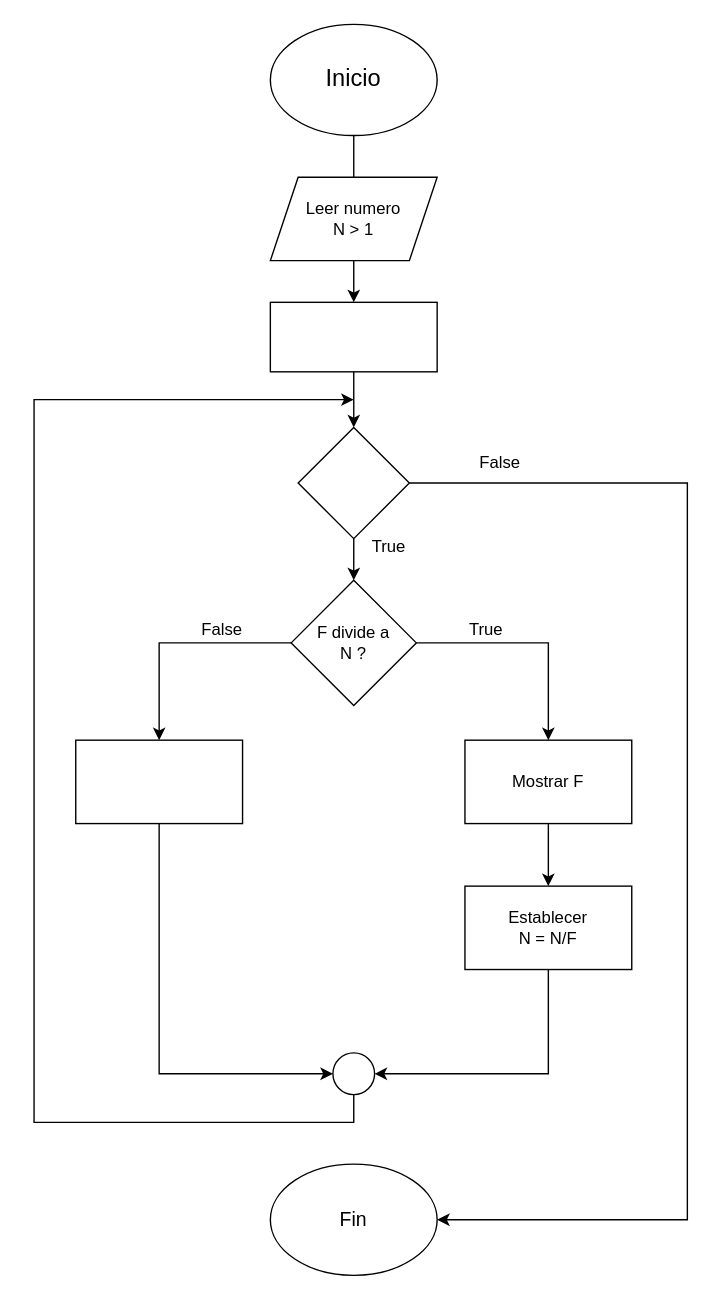
The diagram is 723 pixels wide and 1300 high, and some of its shapes have lost their labels. Each missing label, with the box of its shape:
Aumenta F en 1: (74, 739, 243, 824)
Es N > 1 ?: (297, 426, 409, 539)
Establecer F = 2: (269, 301, 437, 372)
